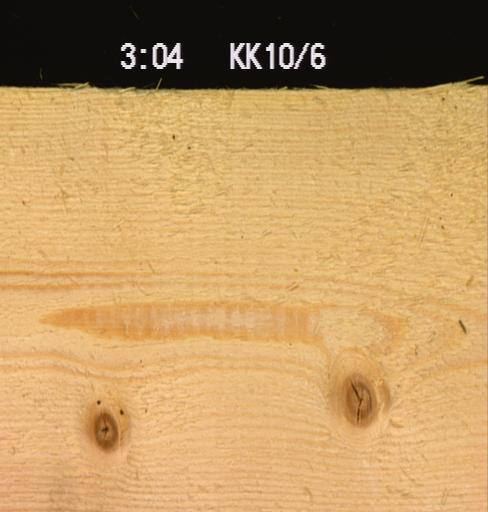sound_knot: (336, 373, 377, 429), (91, 410, 117, 450)
